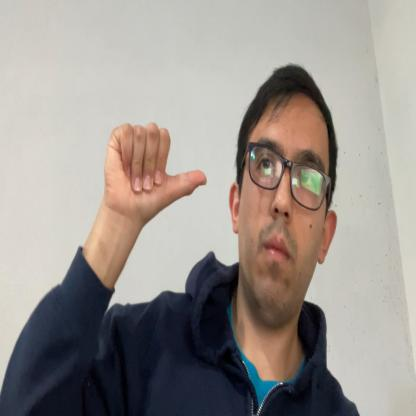A: (104, 122, 208, 224)
